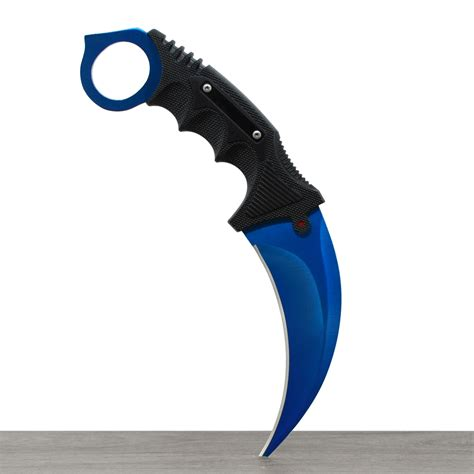knife: (78, 30, 345, 459)
